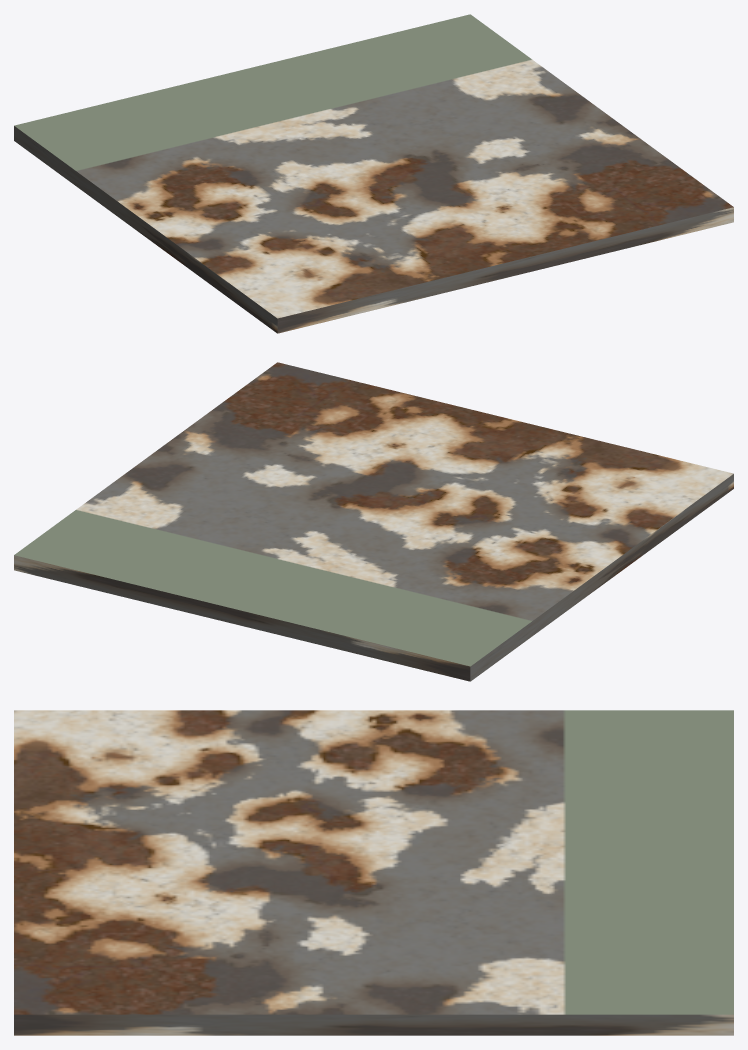
The model's file is roof.fbx.
The picture shows the model from 3 angles, top to bottom: view 1: azimuth 30°, elevation 25°; view 2: azimuth 150°, elevation 25°; view 3: azimuth 270°, elevation 25°; orthographic projection. The views are drawn at different scales.
Parts seen in each view (by area): view 1: Ceiling; view 2: Ceiling; view 3: Ceiling.
Boxes of the visible parts, x1,y1,x2,y2 form: Ceiling: [14, 14, 733, 333]; Ceiling: [14, 362, 733, 681]; Ceiling: [14, 710, 733, 1035].
Size of the model in its own units: 300 by 9.53 by 300.
